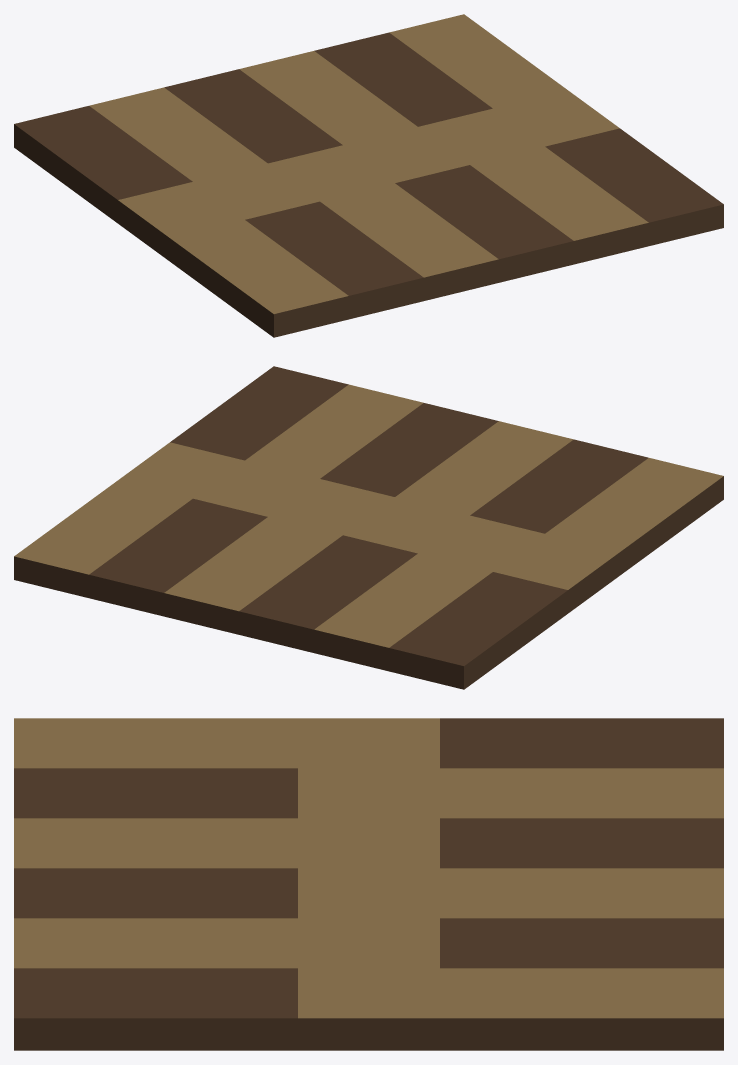
The model's file is Floor.fbx.
3 views of the same model, one above another, from view 1: azimuth 30°, elevation 25°; view 2: azimuth 150°, elevation 25°; view 3: azimuth 270°, elevation 25° (orthographic). The views are drawn at different scales.
Visible parts, largest first — view 1: Floor; view 2: Floor; view 3: Floor.
Boxes of the visible parts, left/top/right/bottom form: Floor: left=14, top=14, right=723, bottom=337; Floor: left=14, top=366, right=723, bottom=689; Floor: left=14, top=718, right=723, bottom=1050.
Size of the model in its own units: 2000 by 100 by 2000.
